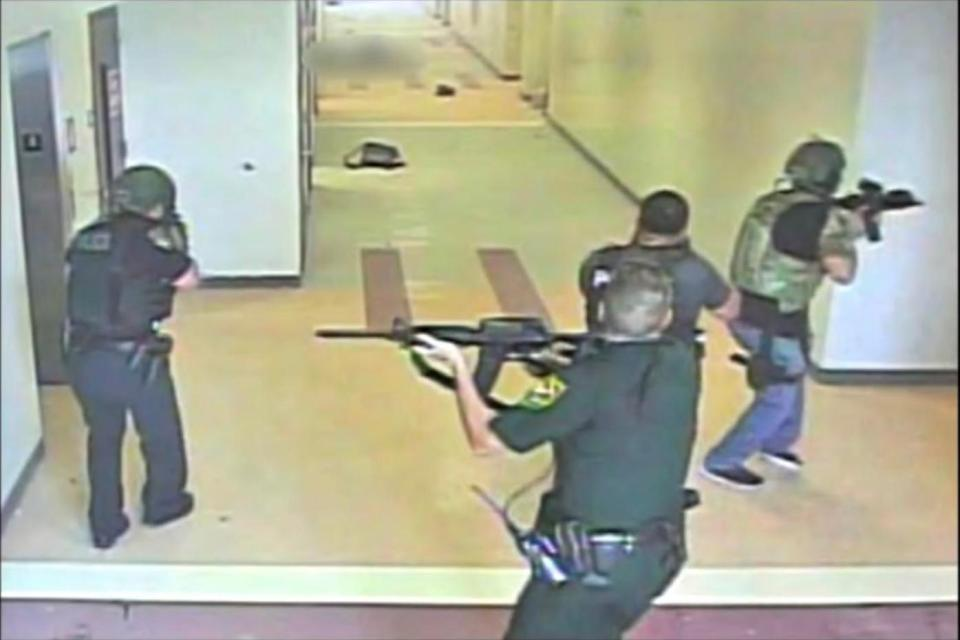non-violence: (394, 255, 714, 640), (698, 132, 930, 502), (55, 160, 210, 554), (575, 186, 741, 356)
weapon: (310, 312, 604, 426), (816, 172, 926, 248), (130, 208, 204, 292)
